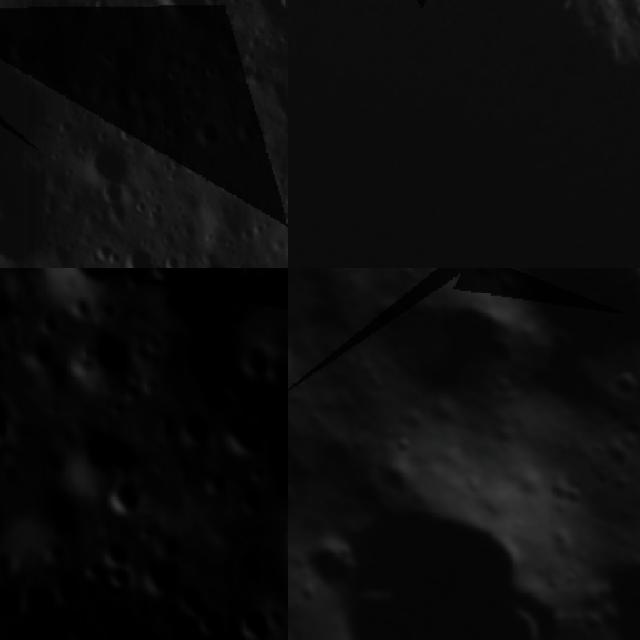crater: (288, 445, 584, 640), (348, 268, 562, 451), (429, 268, 640, 405), (558, 500, 640, 640), (53, 414, 148, 491), (71, 319, 139, 394), (19, 268, 162, 302), (77, 135, 134, 192), (2, 20, 48, 72), (224, 410, 274, 457), (288, 268, 357, 302), (147, 0, 218, 31), (97, 480, 148, 522), (288, 435, 314, 515), (95, 40, 139, 86), (172, 582, 212, 623), (231, 599, 271, 640), (182, 114, 222, 153), (186, 242, 243, 268), (176, 414, 211, 450), (120, 239, 163, 268), (193, 607, 226, 640), (103, 558, 135, 592), (101, 537, 130, 573), (120, 626, 177, 640), (79, 556, 106, 583), (268, 0, 288, 22)
